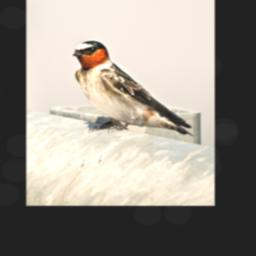Swallow: (71, 38, 194, 136)
